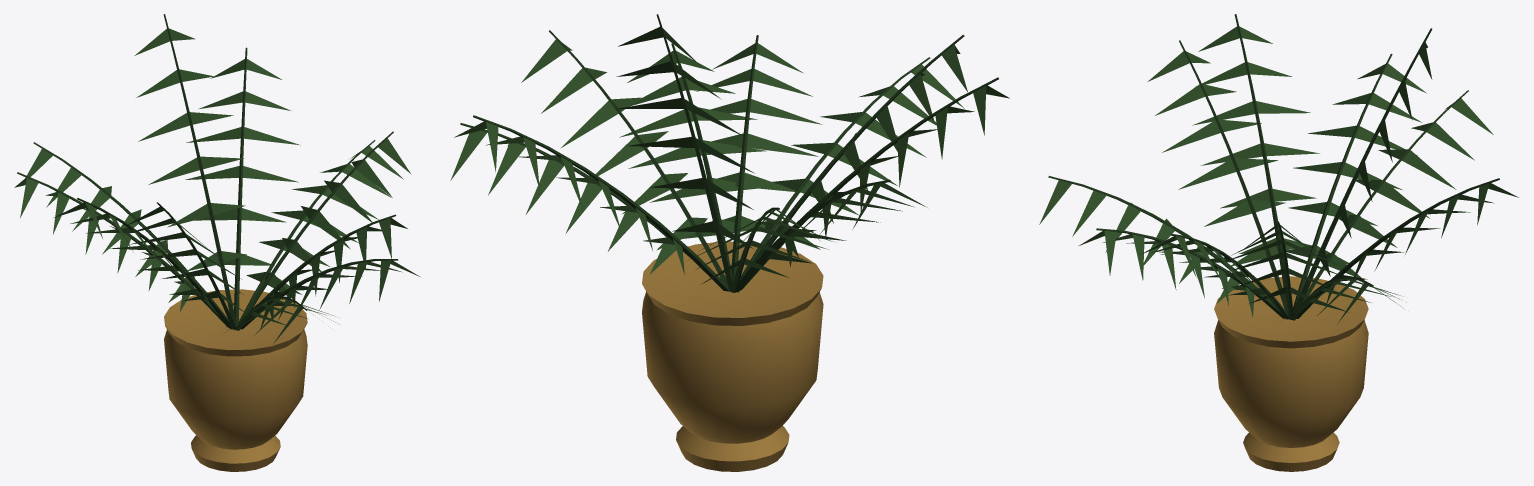
The model's file is potted_palm.glb.
3 views of the same model, side by side, from view 1: azimuth 30°, elevation 25°; view 2: azimuth 150°, elevation 25°; view 3: azimuth 270°, elevation 25° (orthographic). The views are drawn at different scales.
Visible parts, largest first — view 1: potted_palm; view 2: potted_palm; view 3: potted_palm.
Part boxes in pixels (x1,y1,x2,y2): potted_palm: [14, 14, 419, 471]; potted_palm: [450, 14, 1009, 471]; potted_palm: [1039, 14, 1518, 471].
Bounding box in the file's own units: 1.95 × 1.93 × 1.99.
